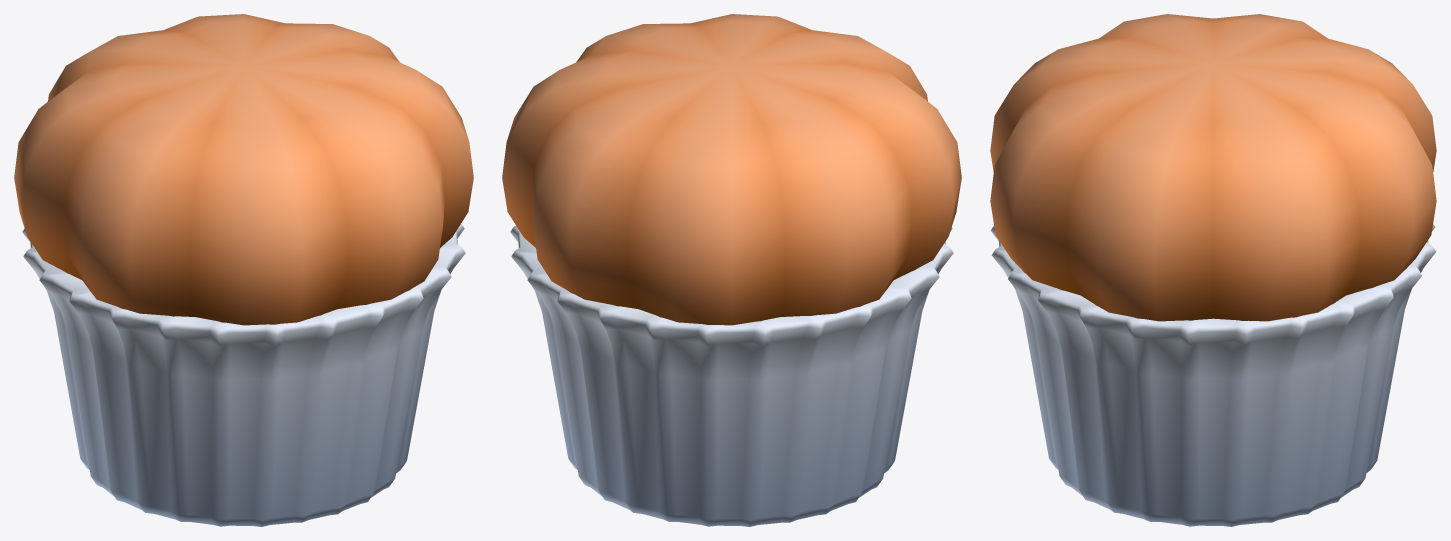
The model's file is Cupcake_02.glb.
3 renders of one model, left to right at view 1: azimuth 30°, elevation 25°; view 2: azimuth 150°, elevation 25°; view 3: azimuth 270°, elevation 25°, orthographic.
Visible parts, largest first — view 1: Cupcake_02; view 2: Cupcake_02; view 3: Cupcake_02.
Part boxes in pixels (x1=…): Cupcake_02: x1=14, y1=14, x2=473, y2=526; Cupcake_02: x1=502, y1=14, x2=961, y2=526; Cupcake_02: x1=990, y1=14, x2=1436, y2=526.
Size of the model in its own units: 4.59 by 4.55 by 4.59.
1 material, 1 textured.
